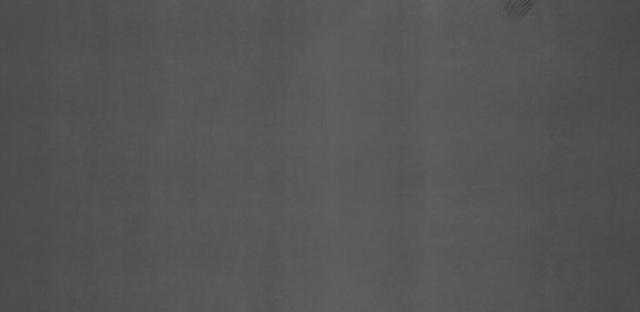water_spot: (500, 1, 556, 34)
